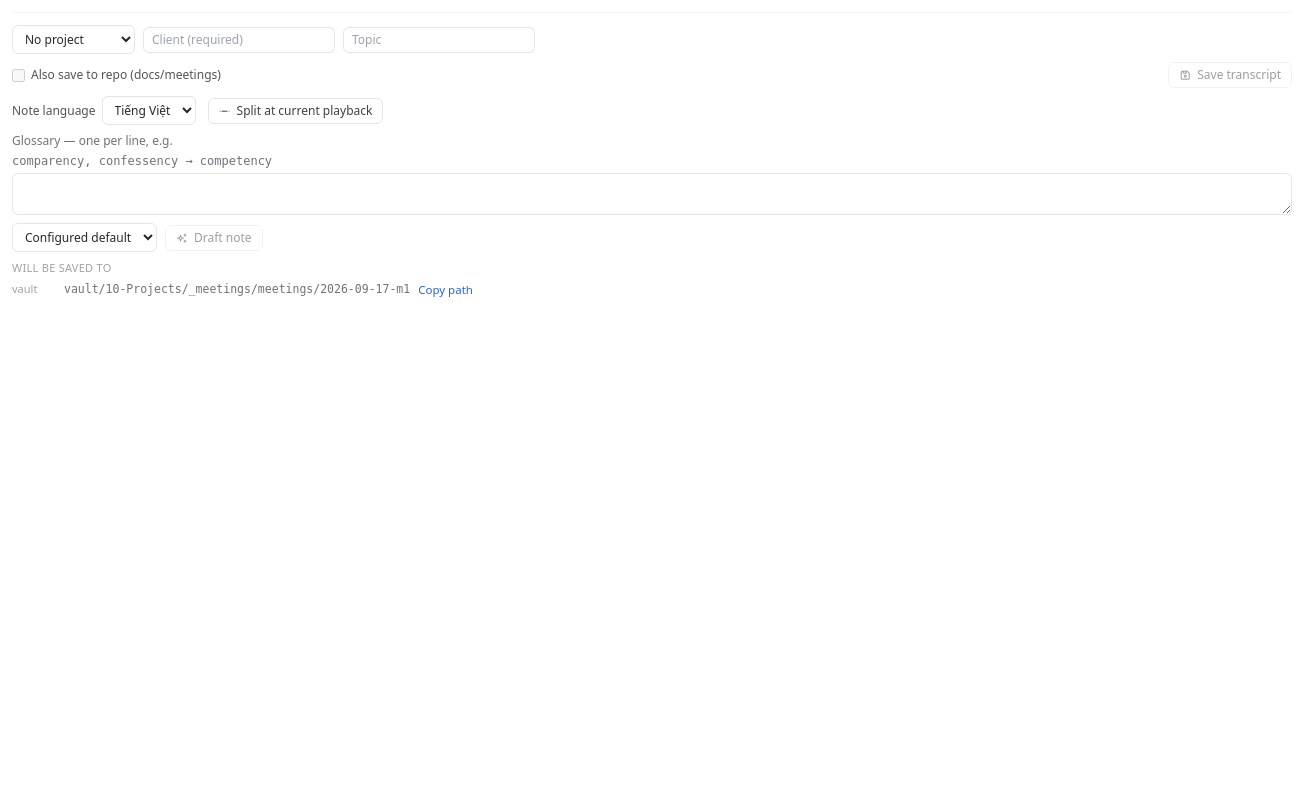
Test: after the save › keeps the written paths readable after drafting a note again
Select "Mantu" in the dropdown named "Project or workspace" at (74, 40), box [12,25,135,54]
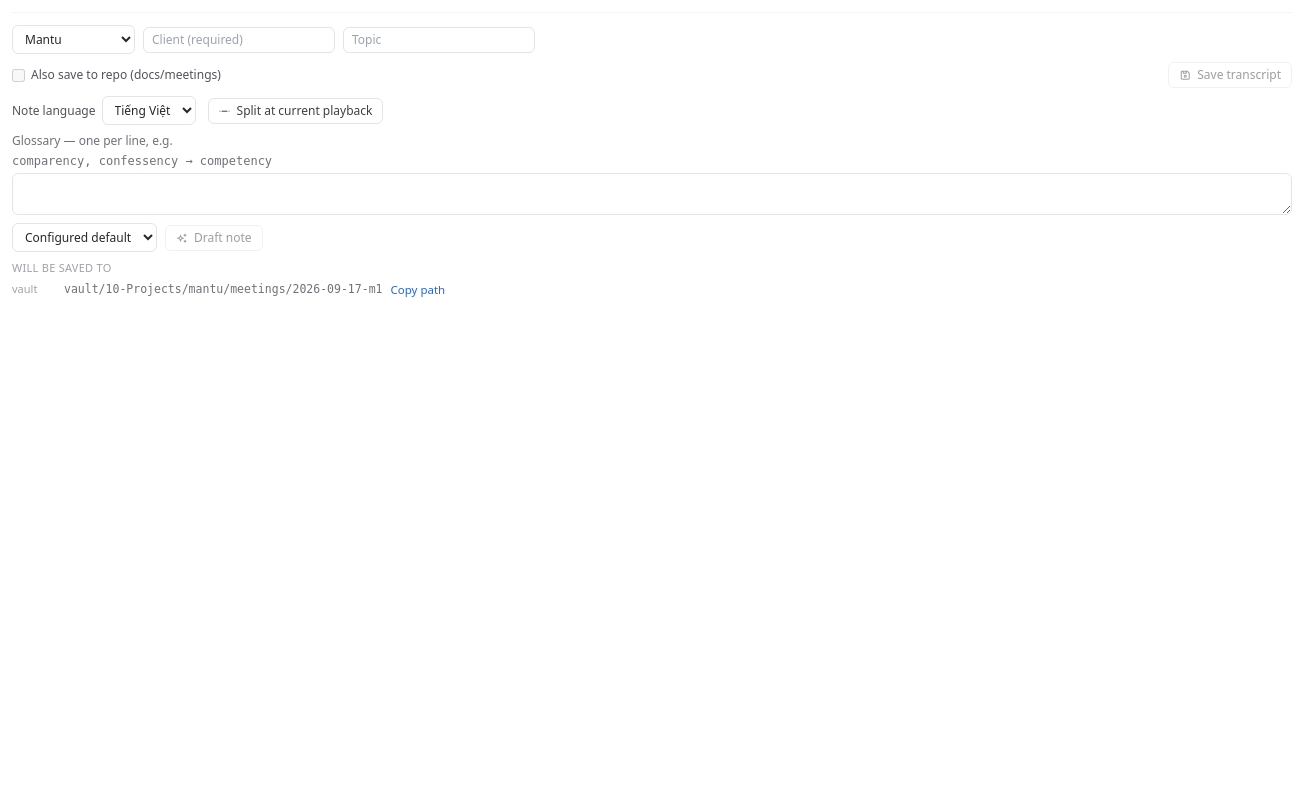
Type "Chị Kate" into the field labelled "Client" at (239, 40), box [143,26,335,52]
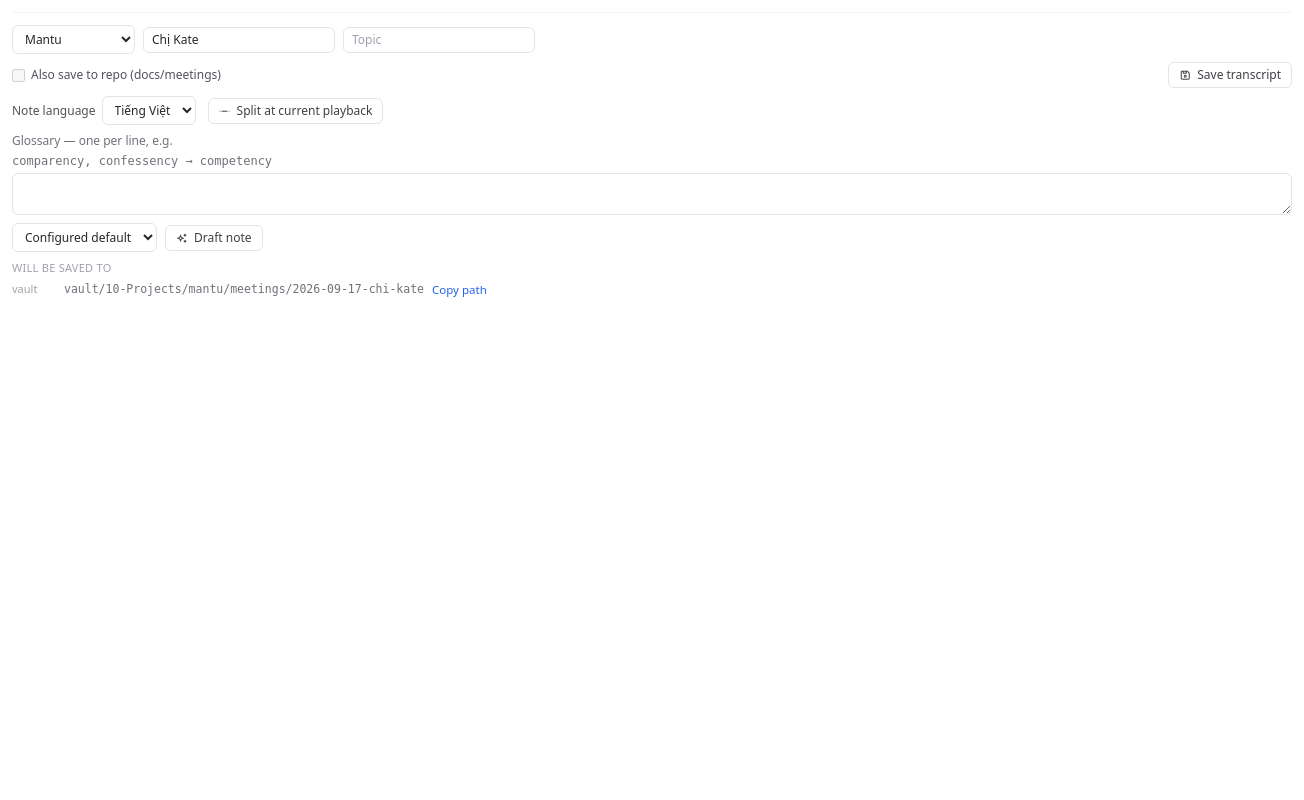
Click the button "Save transcript" at (1230, 75), box [1168,62,1292,88]
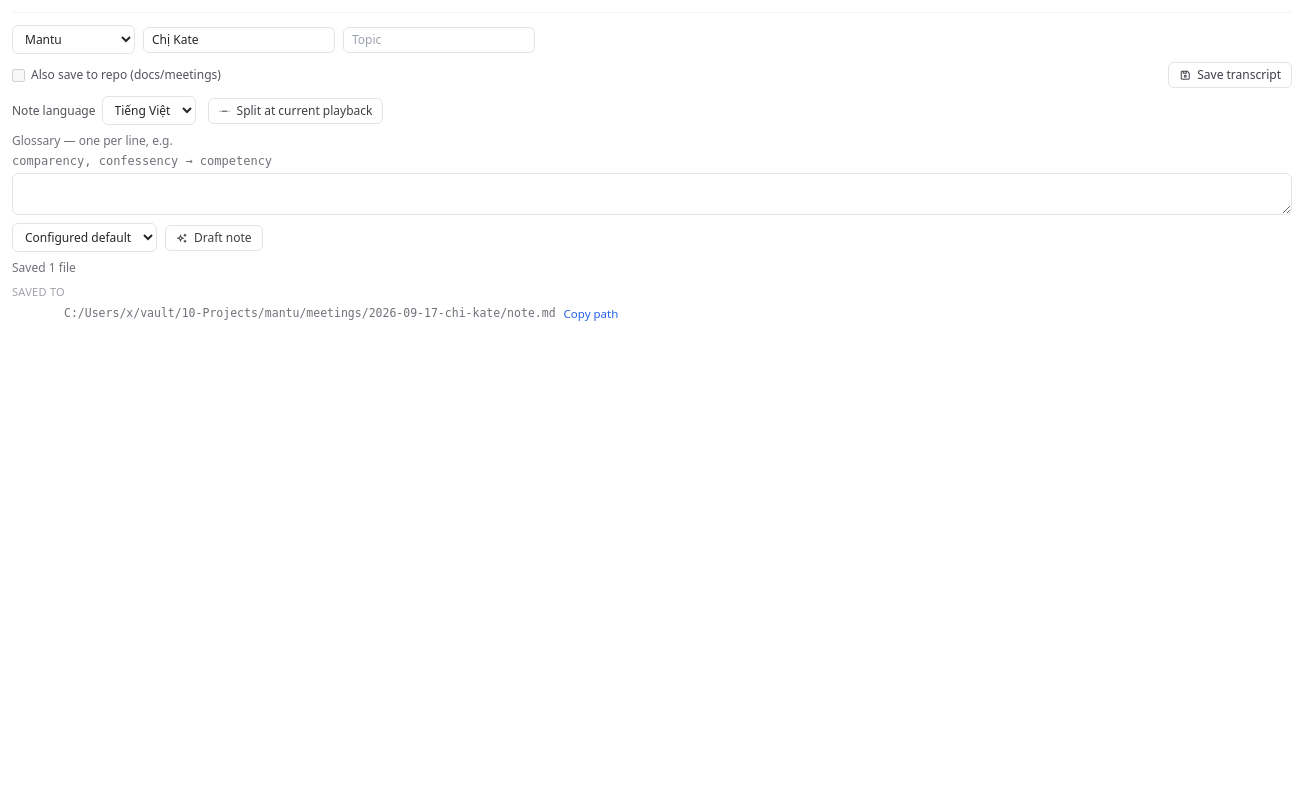
Expected: the text "Saved 1 file" is shown, [12,259,76,276]
Click the button "Draft note" at (214, 238), box [165,224,263,250]
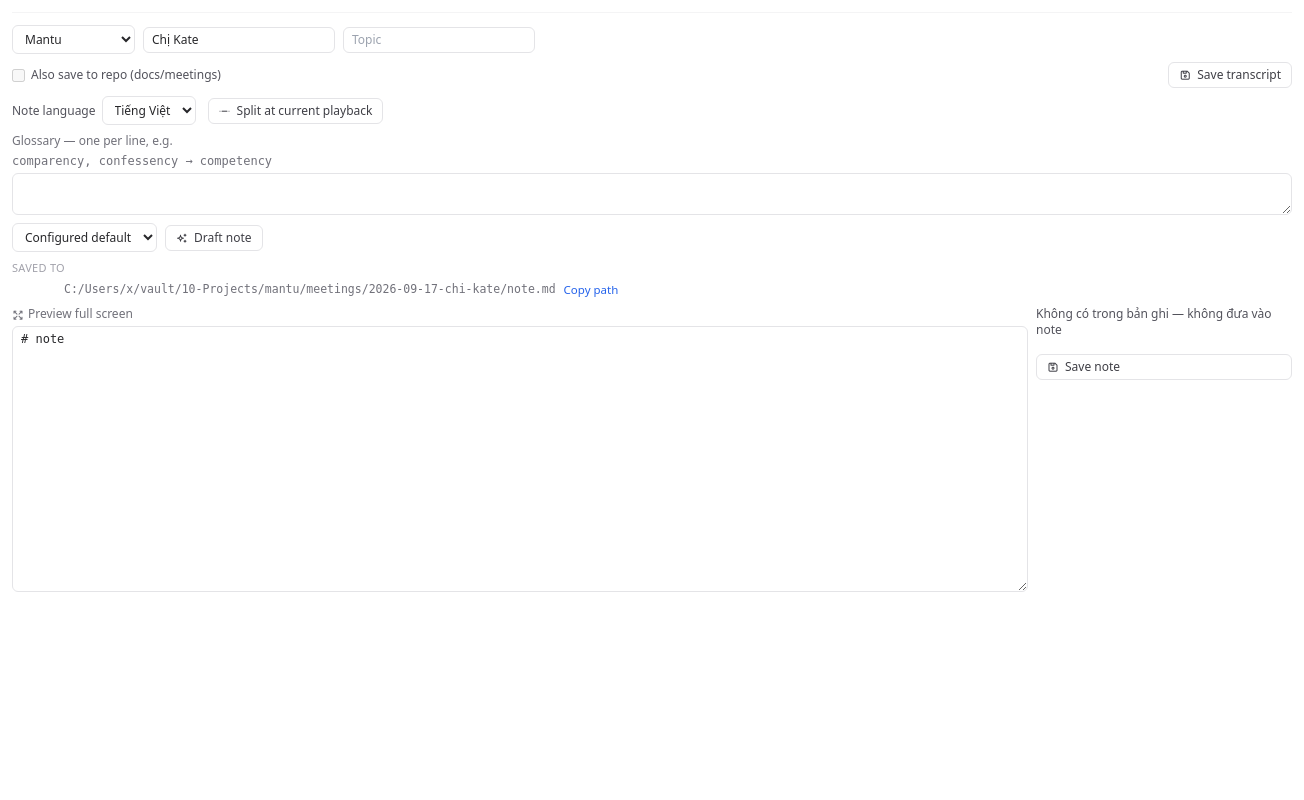
Expected: the element with test id "destinations" shows "C:/Users/x/vault/10-Projects/mantu/meetings/2026-09-17-chi-kate/note.md", [64,282,556,296]
Expected: the text box named "Note draft" is shown, [12,326,1028,592]
